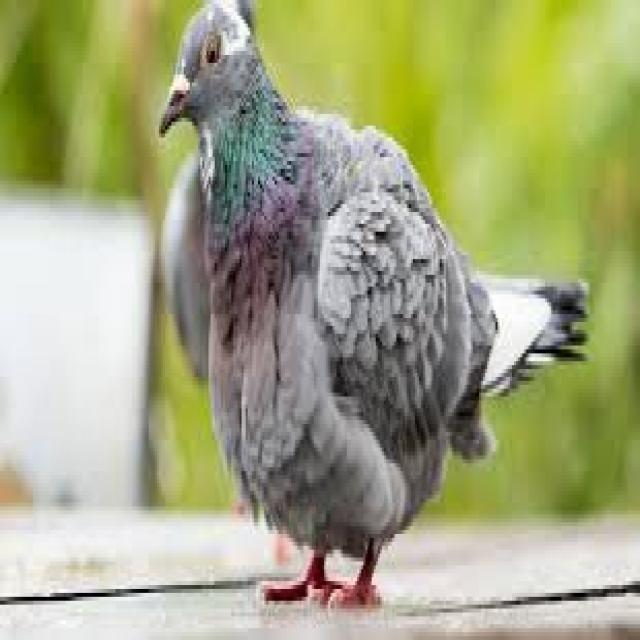Pigeon: (145, 0, 592, 614)
